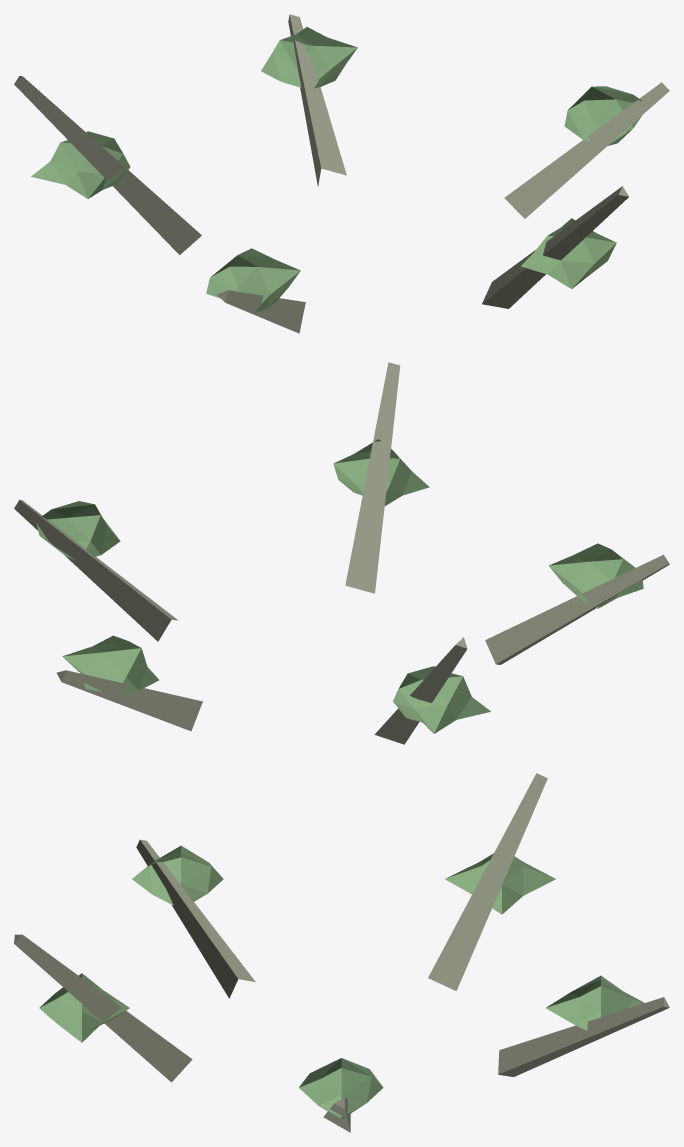
The model's file is bramble_v26.glb.
The picture shows the model from 3 angles, top to bottom: view 1: azimuth 30°, elevation 25°; view 2: azimuth 150°, elevation 25°; view 3: azimuth 270°, elevation 25°; orthographic projection. The views are drawn at different scales.
Parts seen in each view (by area): view 1: lod0; view 2: lod0; view 3: lod0.
Part boxes in pixels (x1,y1,x2,y2): lod0: (14, 14, 669, 333); lod0: (14, 362, 669, 744); lod0: (14, 773, 669, 1132).
Size of what is drawn, in the model's own units: 0.8642 by 0.2551 by 0.9.
